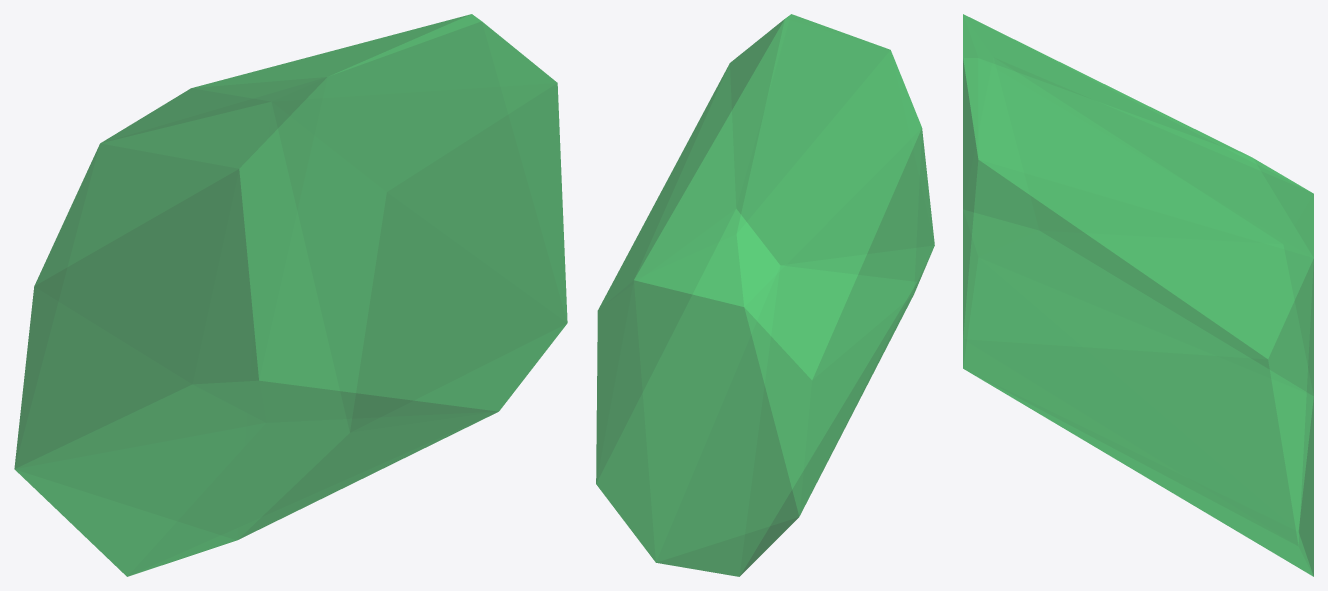
3 views of the same model, side by side, from view 1: azimuth 30°, elevation 25°; view 2: azimuth 150°, elevation 25°; view 3: azimuth 270°, elevation 25° (orthographic). The views are drawn at different scales.
Parts seen in each view (by area): view 1: Shape_IndexedFaceSet.001_Shape_IndexedFaceSet.10636; view 2: Shape_IndexedFaceSet.001_Shape_IndexedFaceSet.10636; view 3: Shape_IndexedFaceSet.001_Shape_IndexedFaceSet.10636.
Boxes of the visible parts, <box> form: Shape_IndexedFaceSet.001_Shape_IndexedFaceSet.10636: <box>14,14,567,576</box>; Shape_IndexedFaceSet.001_Shape_IndexedFaceSet.10636: <box>596,14,934,576</box>; Shape_IndexedFaceSet.001_Shape_IndexedFaceSet.10636: <box>963,14,1313,576</box>.
Bounding box in the file's own units: 0.0496 × 0.0943 × 0.0571.
